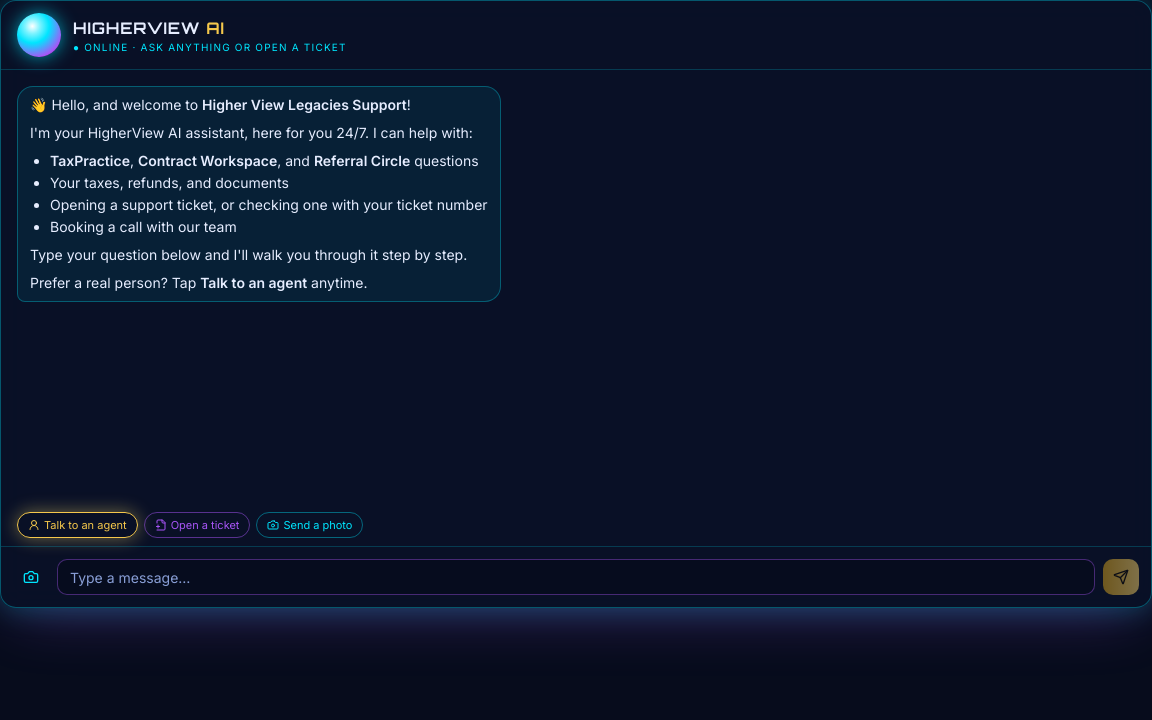
SupportChatWidget › shows 8-character ticket numbers after creating a ticket
Type "help" into the field with placeholder "Type a message…" at (576, 577), box [57,559,1095,595]
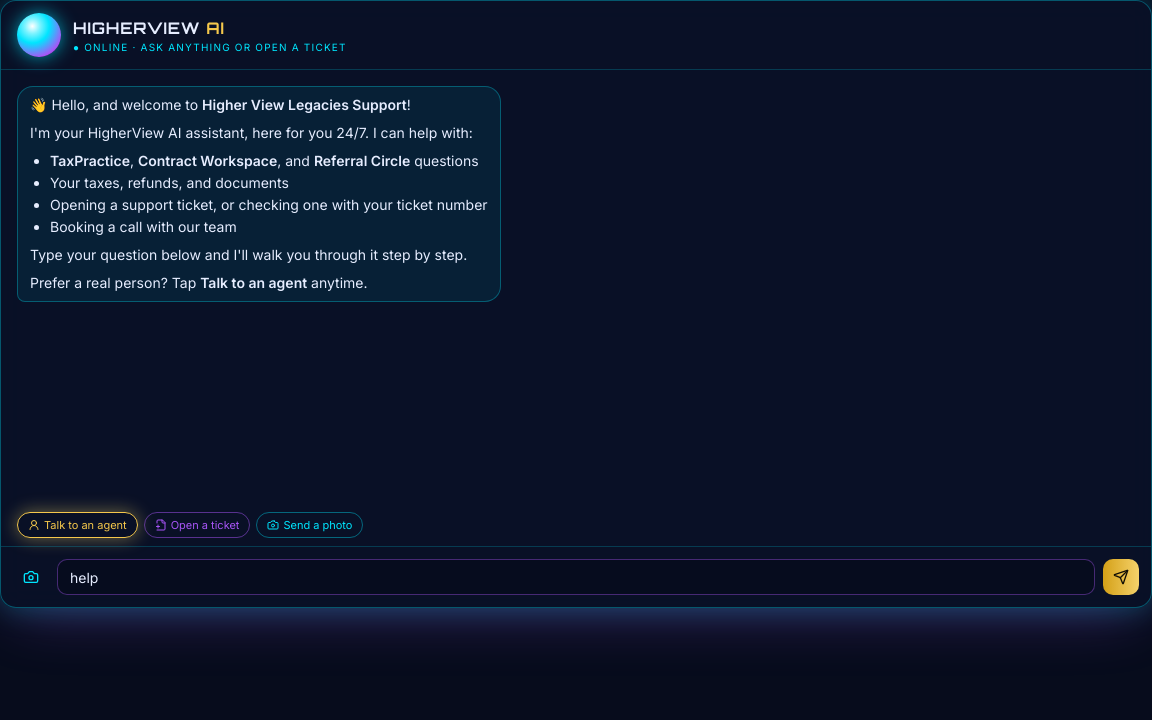
Click the button named "Send message" at (1121, 577), box [1103,559,1139,595]
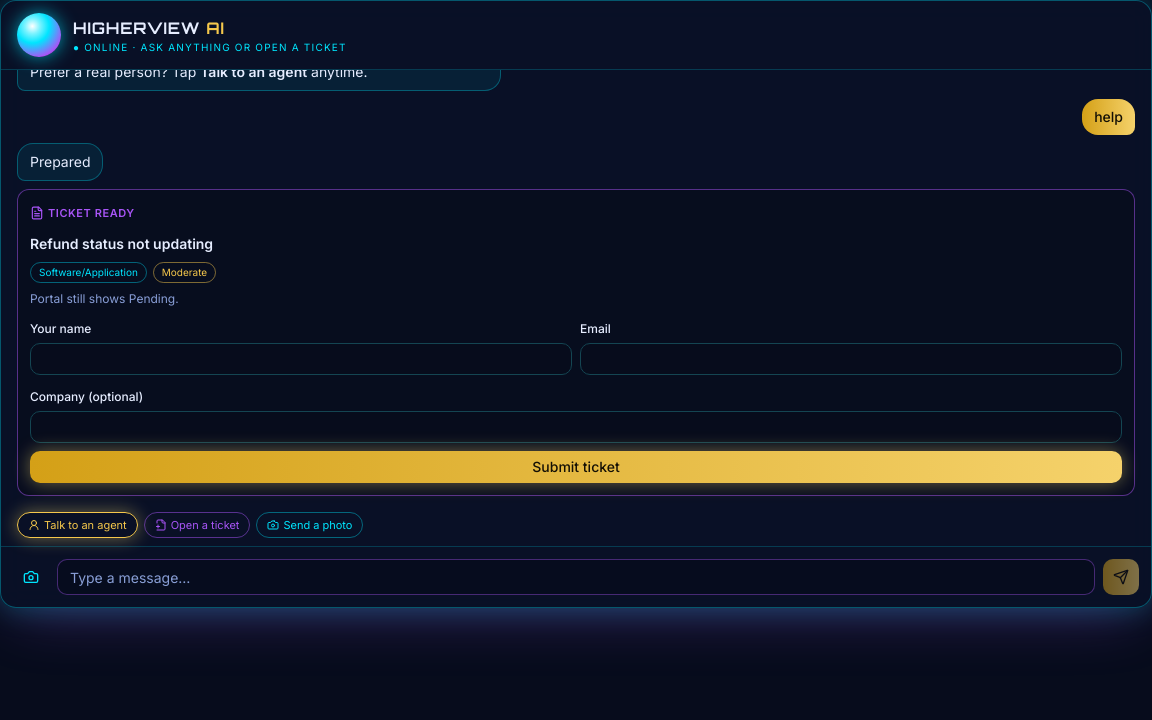
expect the text "Refund status not updating" is shown: met, box [30,235,213,252]
Type "Ann" into the field labelled "Your name" at (301, 359), box [30,343,572,375]
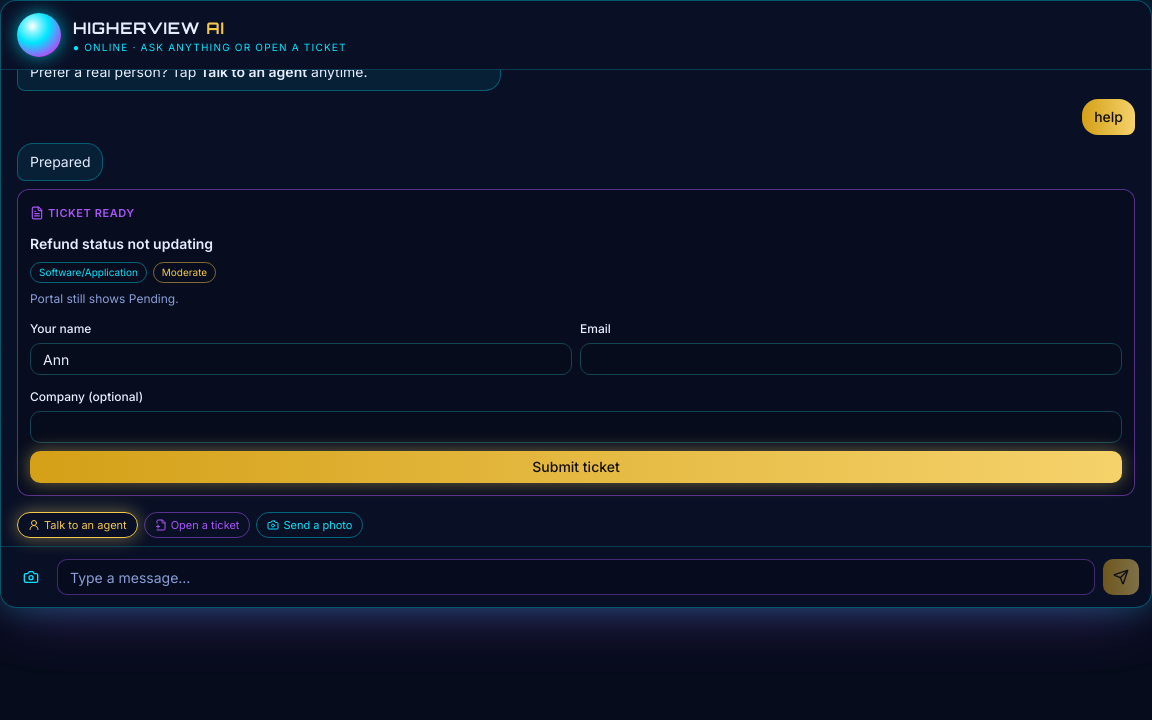
Type "ann@x.com" into the field labelled "Email" at (851, 359), box [580,343,1122,375]
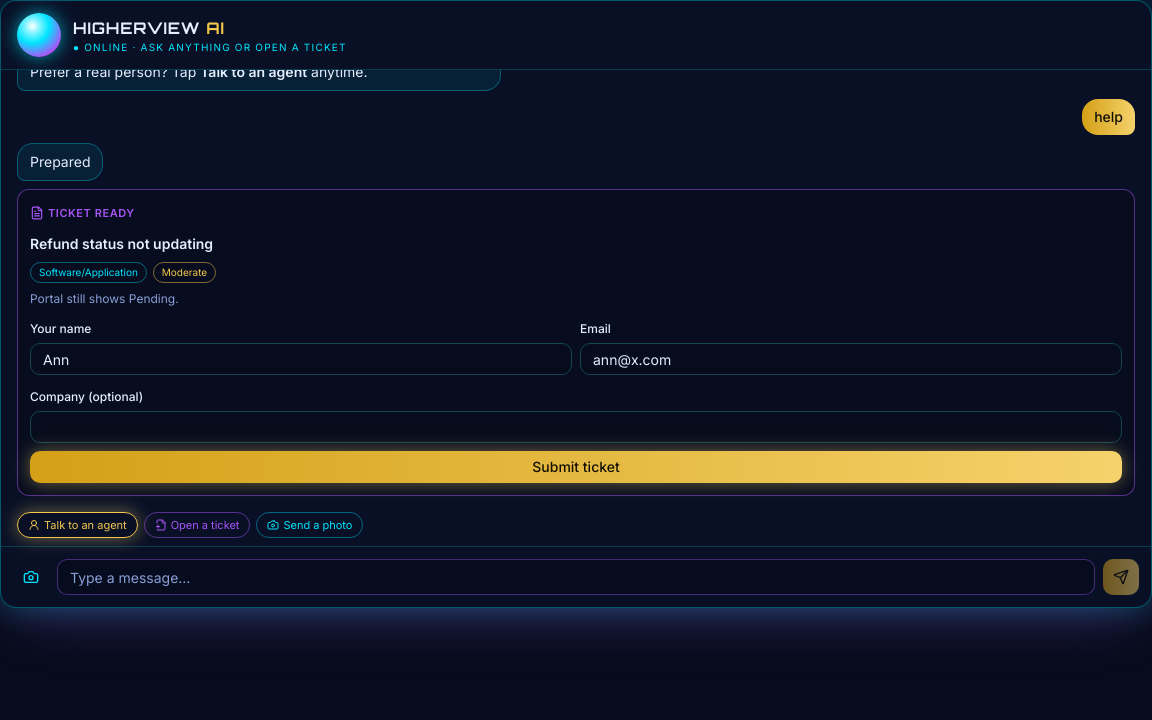
Click the button "Submit ticket" at (576, 467), box [30,451,1122,483]
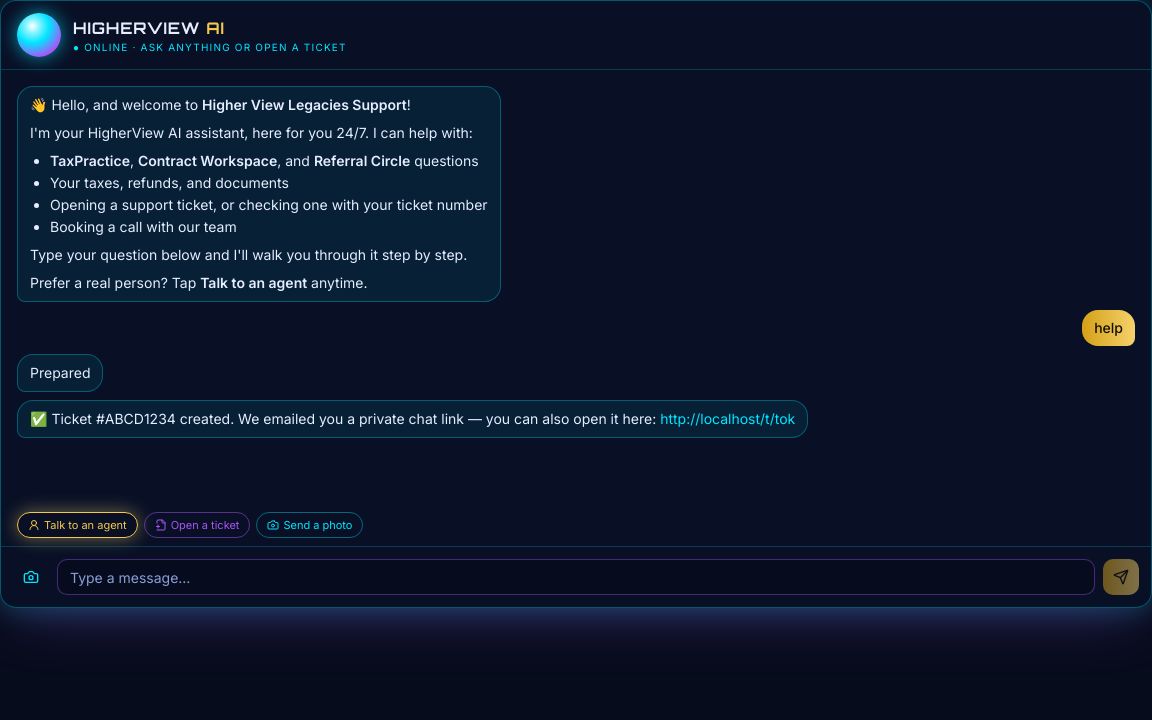
expect the text "Ticket #ABCD1234 created" is shown: met, box [30,410,660,427]
